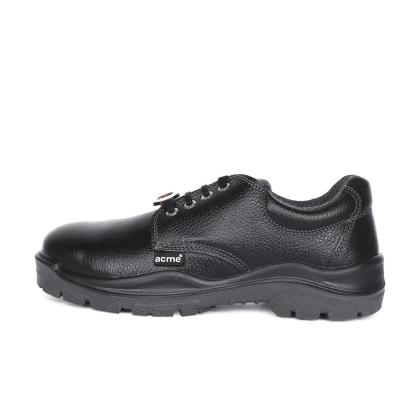bota: (32, 171, 386, 324)
